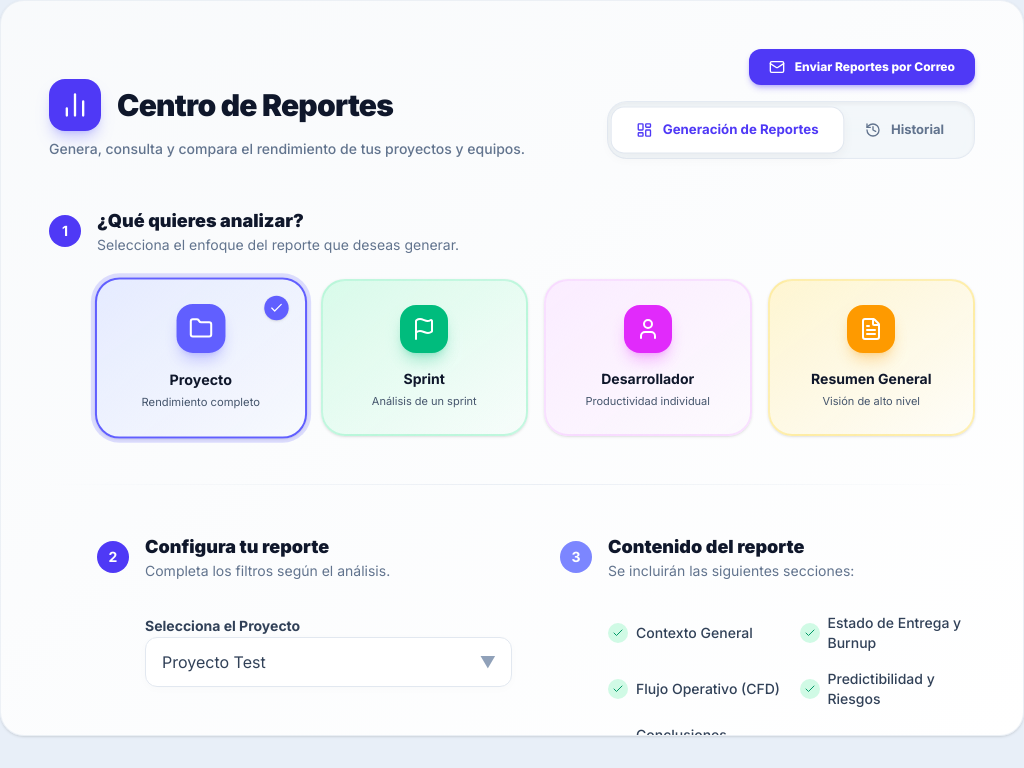
CentroReportesView › handles custom ranges and sprint comparisons
Step 1. Click the button "Historial" → (904, 130), box [841,108,968,152]
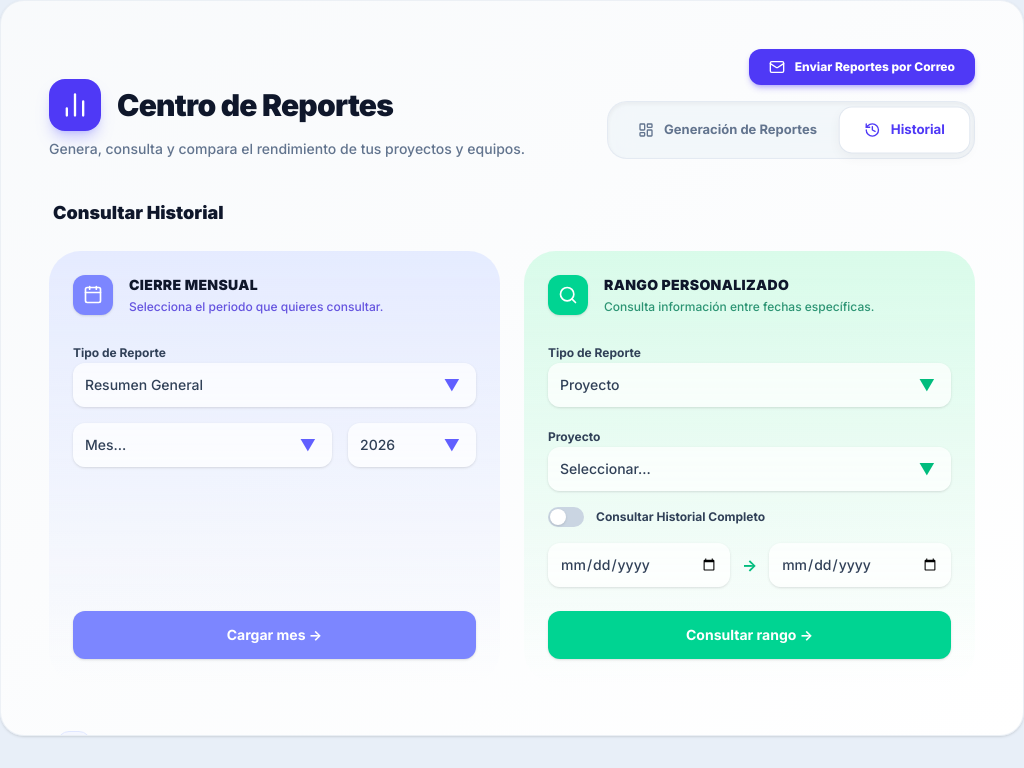
Step 2. Select "Sprint" in the dropdown labelled "Tipo de Reporte" below "RANGO PERSONALIZADO" → (750, 384), box [548,362,951,406]
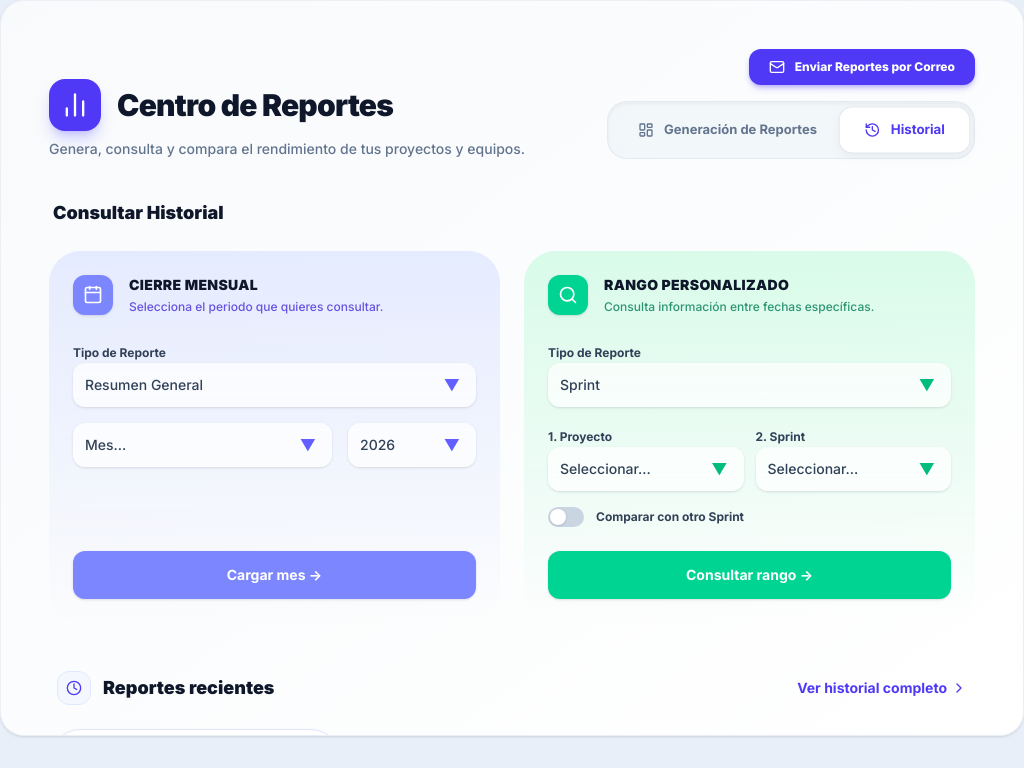
Click en "Comparar con otro Sprint"
Step 3. Click the text "Comparar con otro Sprint" → (670, 516), box [596,508,744,524]
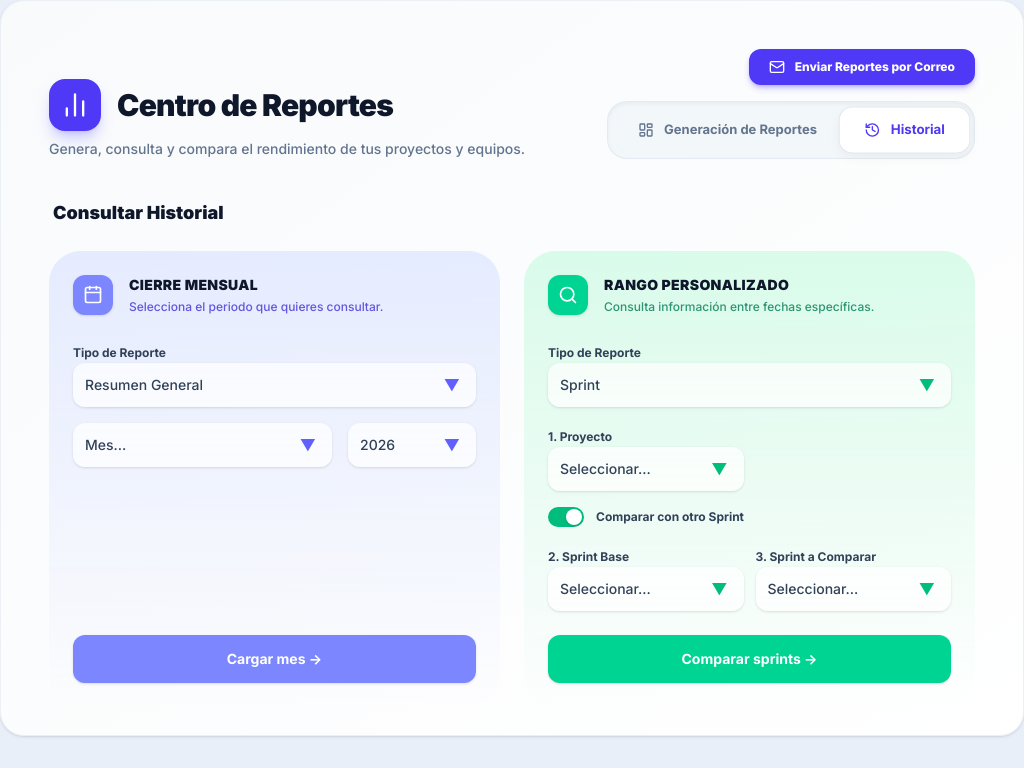
expect the text "2. Sprint Base" is shown: met, box [548,548,629,564]
expect the text "3. Sprint a Comparar" is shown: met, box [756,548,876,564]
Switch to Proyecto to test full history toggle
Step 4. Select "Proyecto" in the dropdown labelled "Tipo de Reporte" below "RANGO PERSONALIZADO" → (750, 384), box [548,362,951,406]
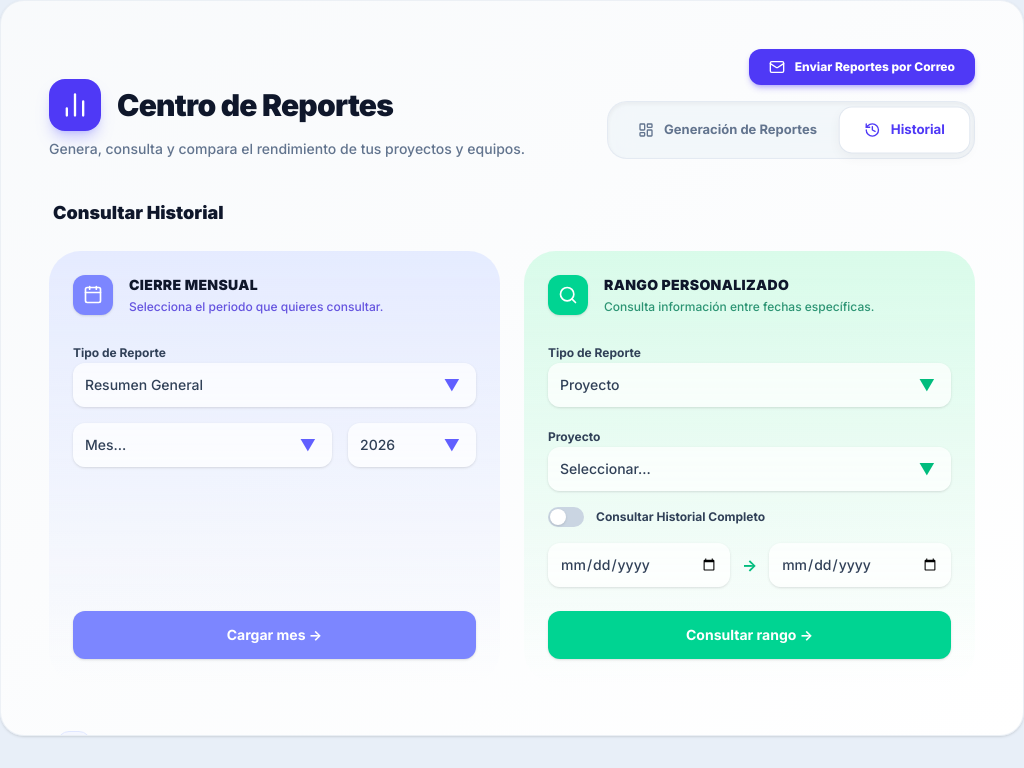
Toggle full history
Step 5. Click the text "Consultar Historial Completo" → (681, 516), box [596,508,765,524]
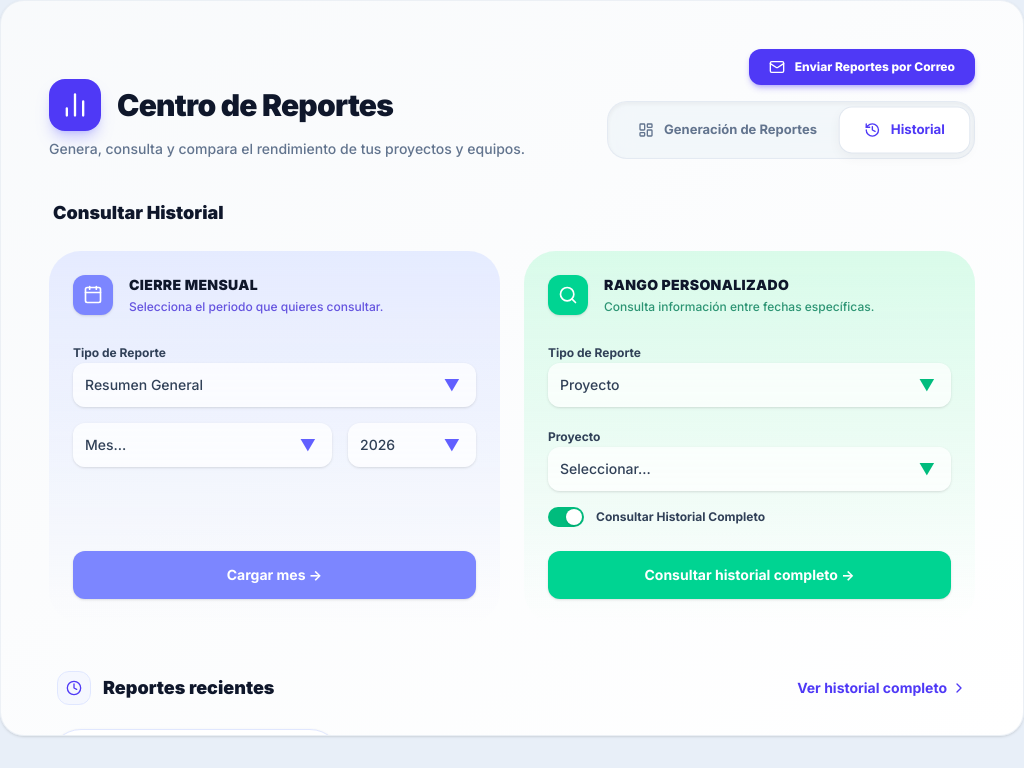
expect the button "Consultar historial completo →" is shown: met, box [548,550,951,598]
